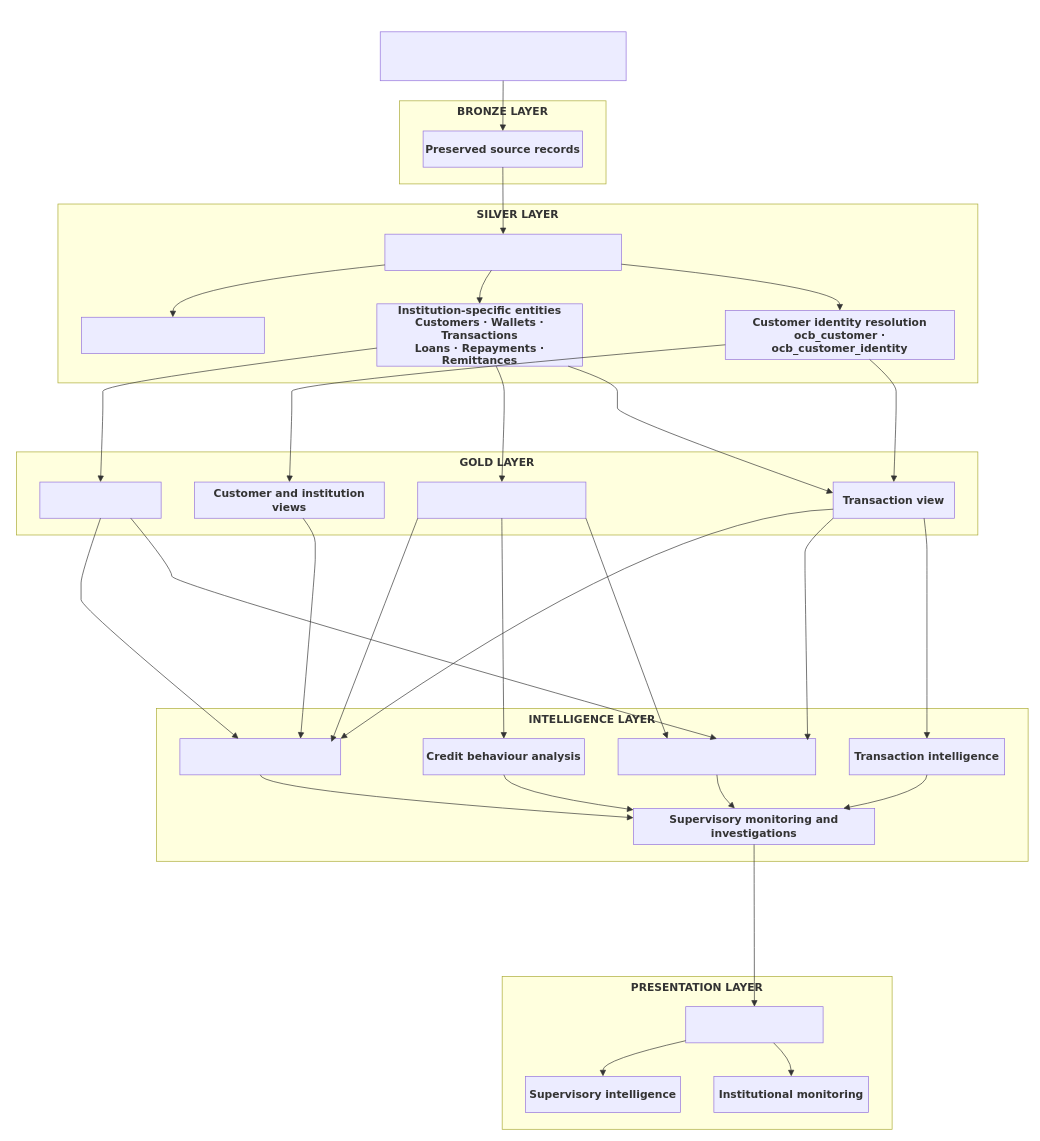
This 1040x1141 diagram has some shape labels left out. The centre of each missing label's shape, as x and y in pixels:
Behaviour and sequence analysis: pixel 716 756
Cross-institution analysis: pixel 260 756
Data transformation and standardisation: pixel 502 251
Loan and repayment views: pixel 501 499
Reference and load metadata: pixel 172 335
Remittance view: pixel 100 499
SOURCE DATA Ananse Telecom · SikaCredit · Oman Remit: pixel 503 56
Streamlit dashboard: pixel 754 1024
